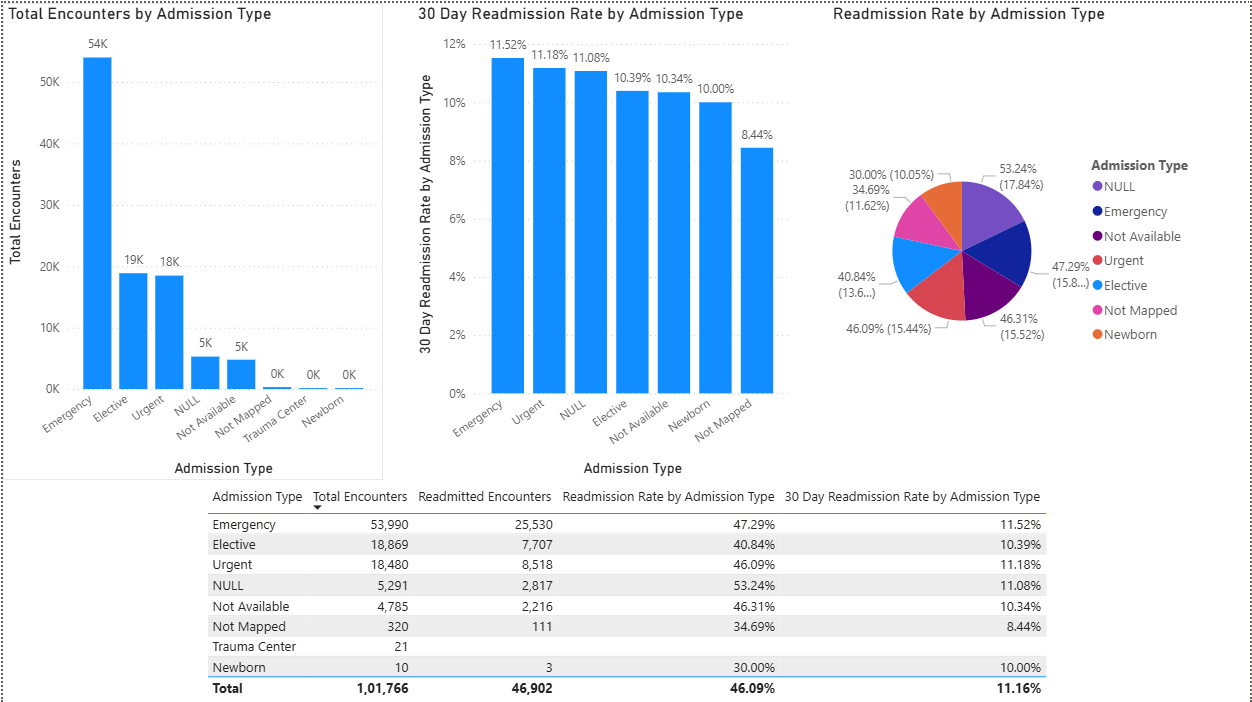

The dashboard page shown, as its layout file describes it:
{"tool":"powerbi","page":{"name":"Readmission Analysis","canvas":[1280,720],"ordinal":2},"visuals":[{"type":"clusteredColumnChart","fields":{"Category":["diabetic_data.Admission Type"],"Y":["diabetic_data.Total Encounters"]},"box":[0,0,390.1,490],"z":0},{"type":"pieChart","title":"Readmission Rate by Admission Type","fields":{"Category":["diabetic_data.Admission Type"],"Y":["diabetic_data.Readmission Rate by Admission Type"]},"box":[846.2,0,390.1,490],"z":1000},{"type":"clusteredColumnChart","title":"30 Day Readmission Rate by Admission Type","fields":{"Category":["diabetic_data.Admission Type"],"Y":["diabetic_data.30 Day Readmission Rate by Admission Type"]},"box":[420.7,0,392.5,490.4],"z":2000},{"type":"tableEx","fields":{"Values":["diabetic_data.Admission Type","diabetic_data.Total Encounters","diabetic_data.Readmitted Encounters","diabetic_data.Readmission Rate by Admission Type","diabetic_data.30 Day Readmission Rate by Admission Type"]},"box":[204.2,490.4,1076.1,229.9],"z":3000}]}

Visuals, with their boxes in screenshot pixels (x1, y1, x2, y2), scaled from the page's 1280x720 canvas onto the 1252x702 screenshot:
clusteredColumnChart - diabetic_data.Admission Type x diabetic_data.Total Encounters: x1=0 y1=0 x2=382 y2=478
"Readmission Rate by Admission Type" pieChart: x1=828 y1=0 x2=1209 y2=478
"30 Day Readmission Rate by Admission Type" clusteredColumnChart: x1=411 y1=0 x2=795 y2=478
tableEx - diabetic_data.Admission Type x diabetic_data.Total Encounters: x1=200 y1=478 x2=1251 y2=701
